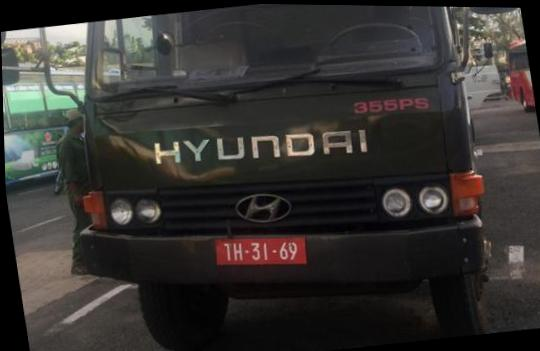License_Plate: (214, 237, 312, 271)
